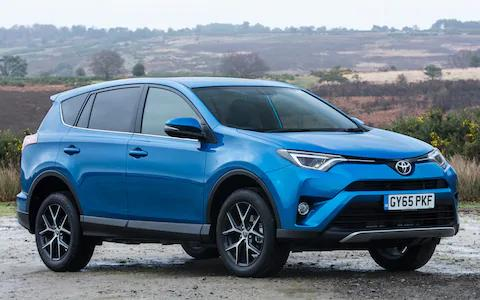Toyota RAV-4: (15, 76, 460, 279)
